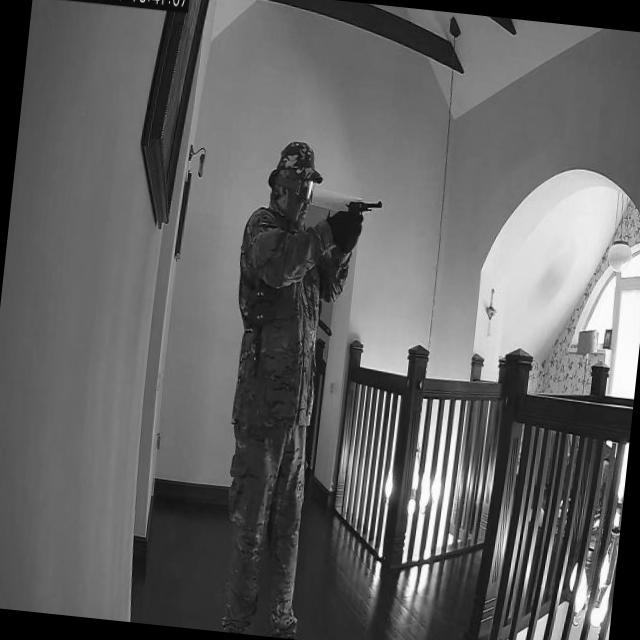gun: (342, 193, 383, 232)
person with a gun: (202, 130, 391, 640)
